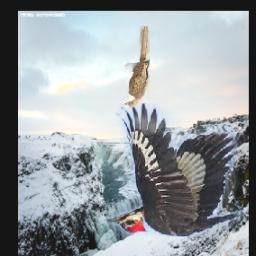Cuckoo: (124, 25, 150, 107)
Woodpecker: (107, 104, 244, 237)
